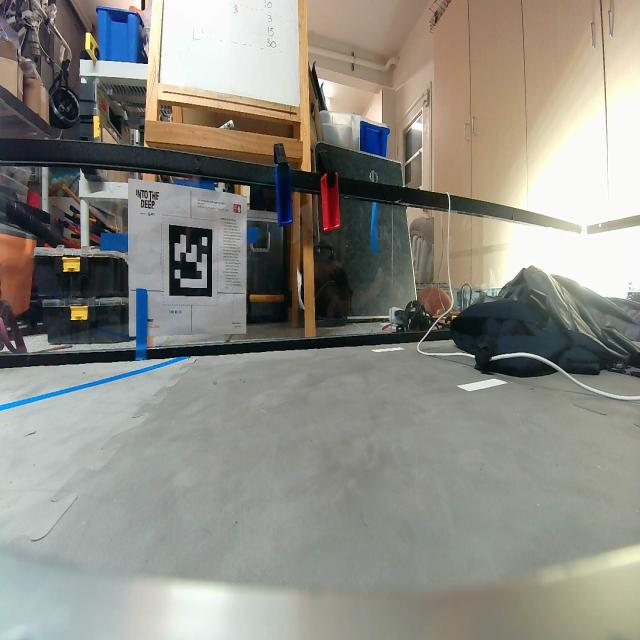specimen_block_blue: (273, 163, 298, 224)
specimen_block_red: (322, 169, 344, 237)
